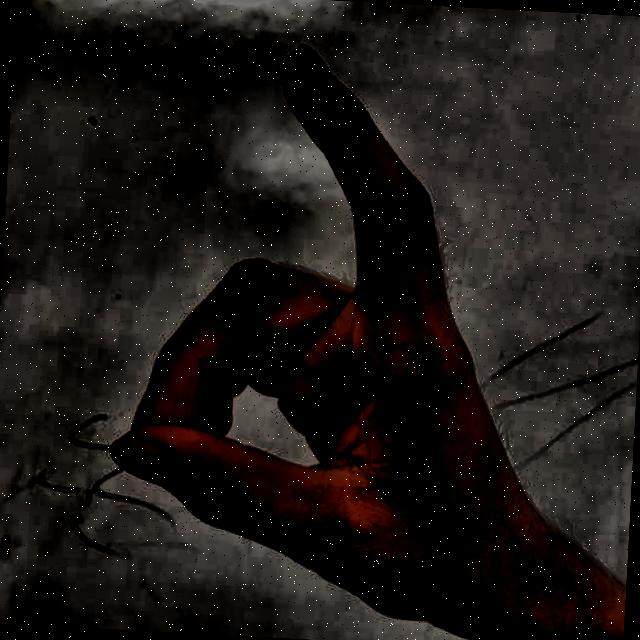Dha: (88, 14, 533, 640)
